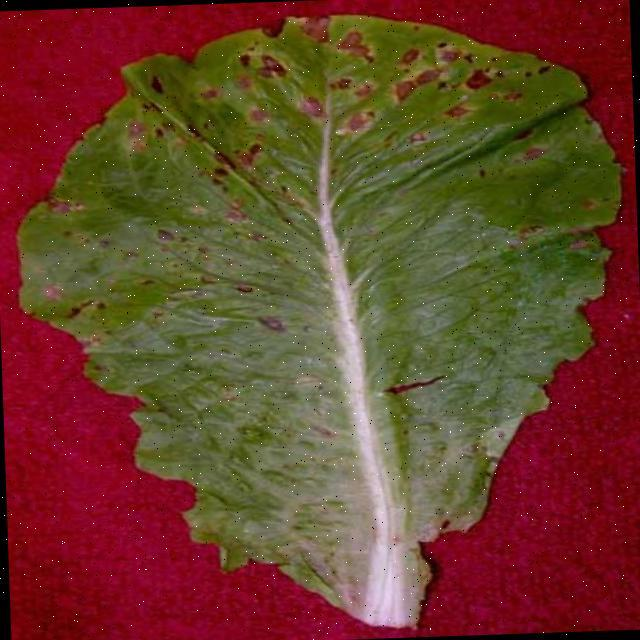Septoria_Blight: (138, 76, 524, 346)
